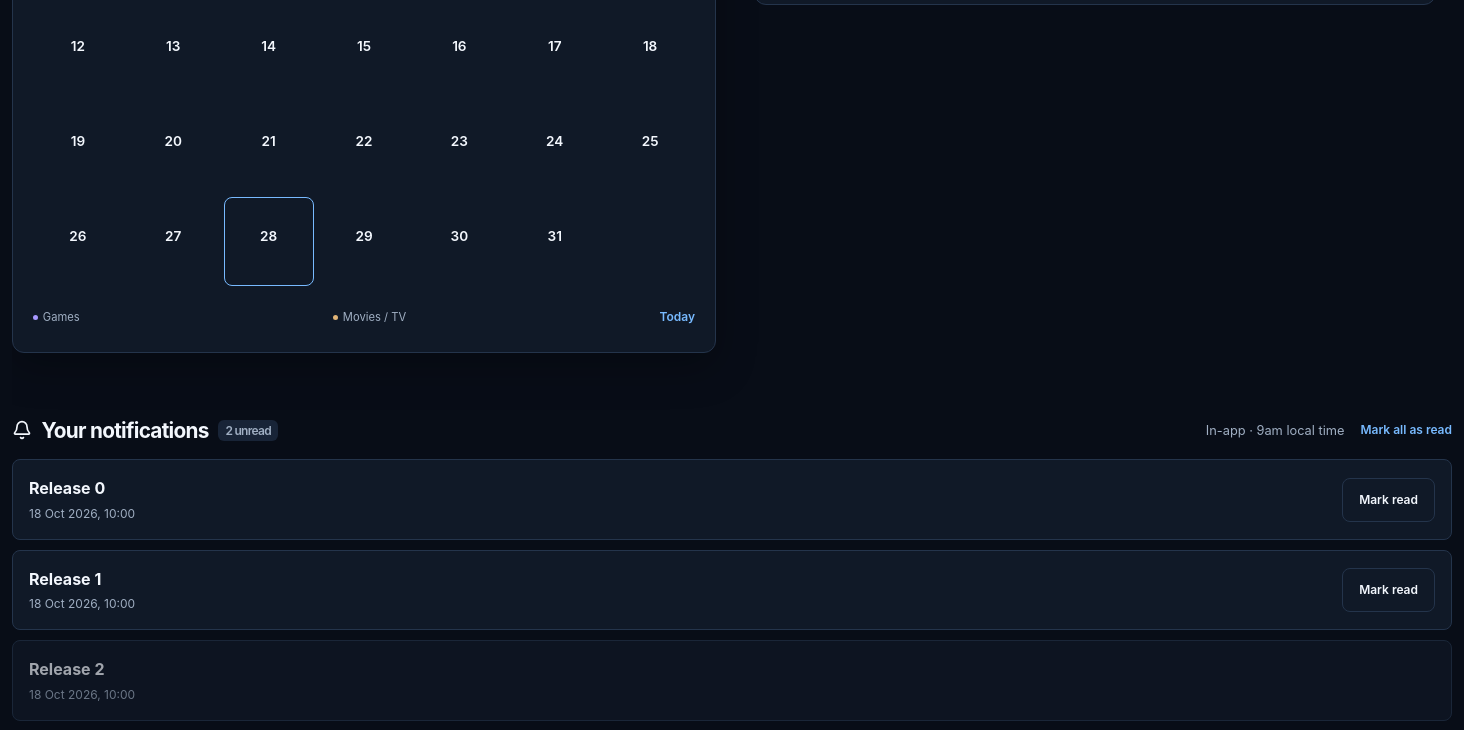
Test: marks all unread notifications and updates the badge immediately after success
This screenshot has width=1464, height=730.
(page scrolled)
Expected: the text "2 unread" is shown, [218,420,278,441]
Click the button "Mark all as read". click: (1406, 430)
box: [1360,415,1452,445]
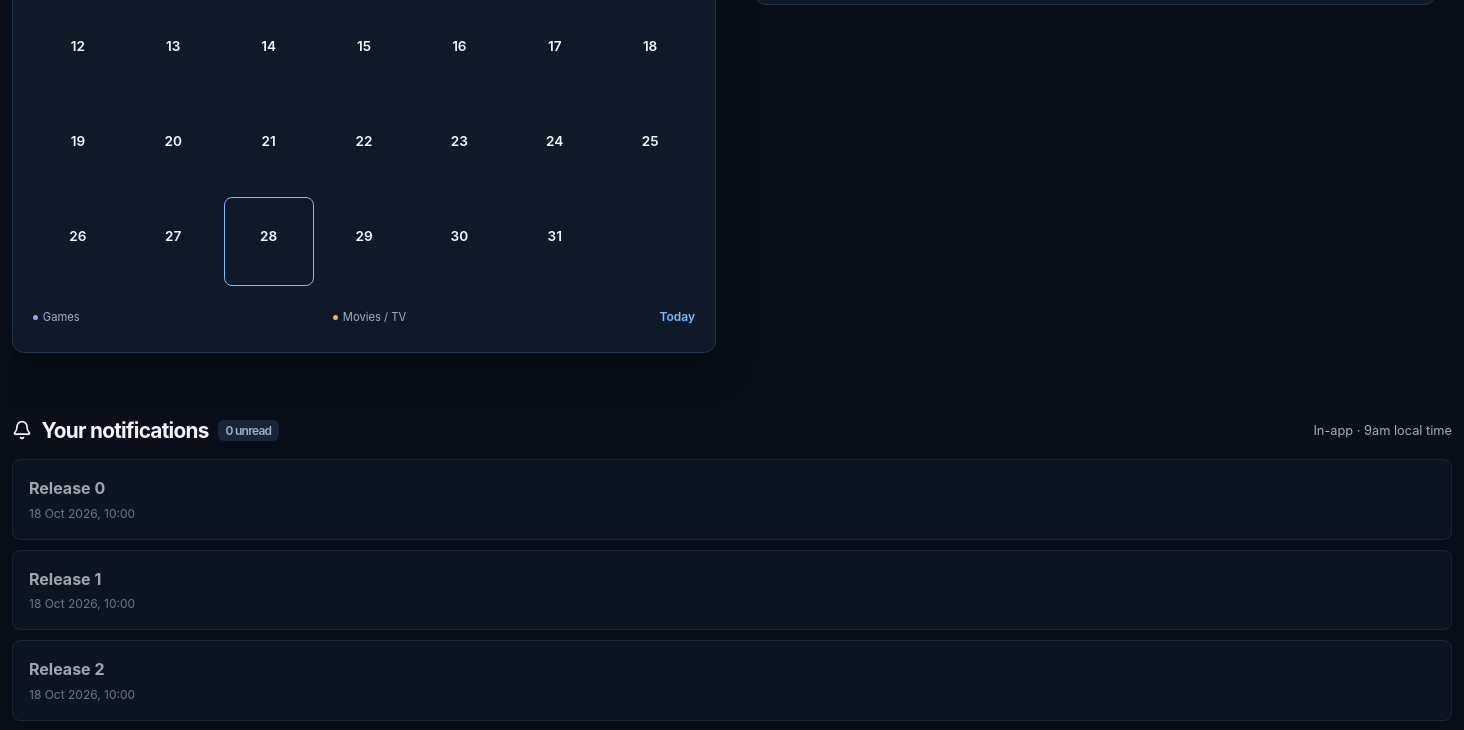
Expected: the text "0 unread" is shown, [218,420,279,441]
Expected: the button "Mark read" is gone
